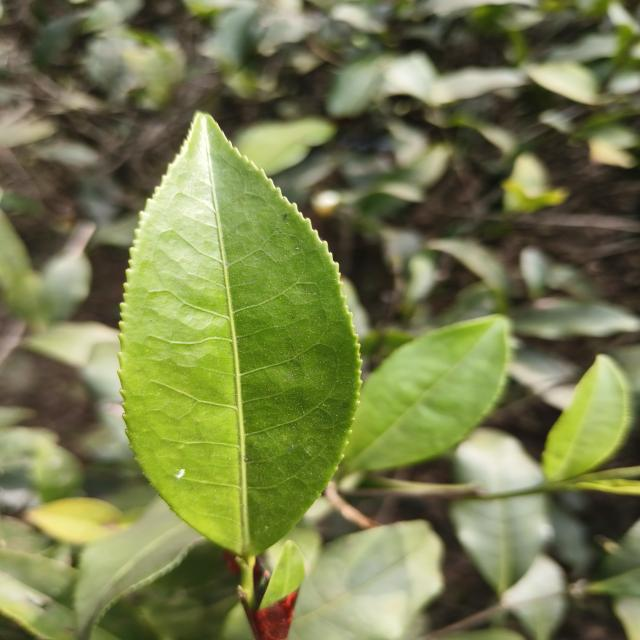Leaf: (120, 114, 360, 557), (344, 315, 510, 472), (74, 497, 205, 640), (288, 520, 443, 640), (542, 355, 631, 481), (450, 493, 551, 594), (0, 549, 79, 640), (236, 117, 336, 176), (427, 238, 508, 310), (454, 428, 542, 492), (513, 299, 640, 340), (25, 498, 124, 544), (43, 249, 91, 322), (526, 62, 599, 104), (91, 602, 157, 640)
